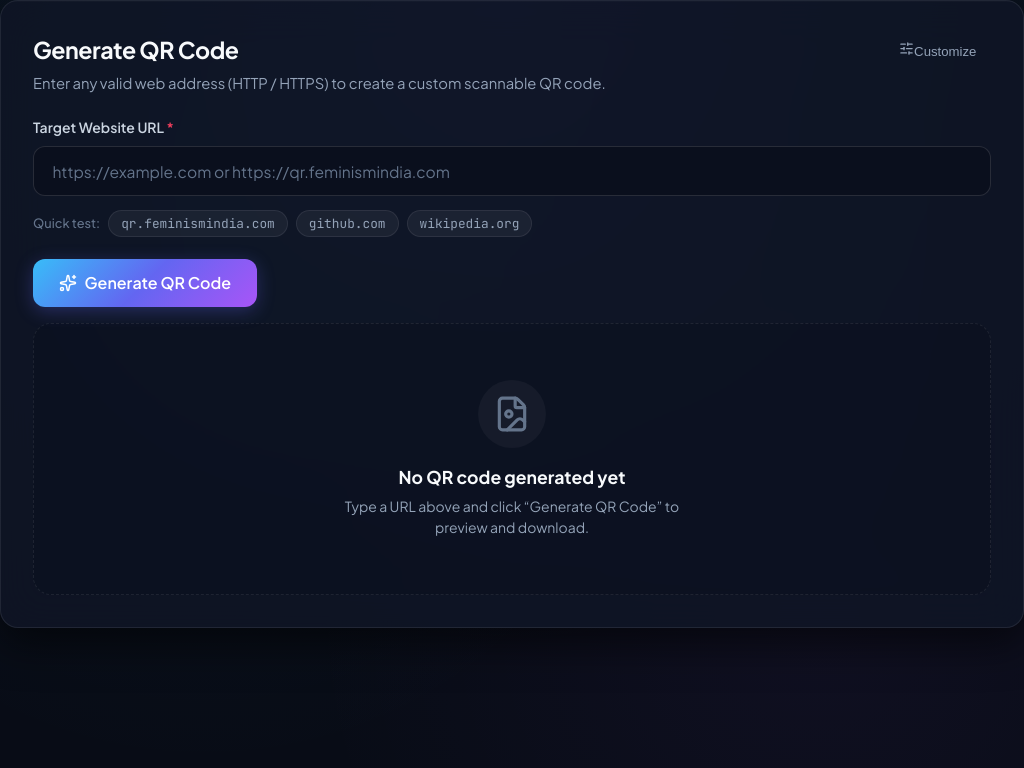
QRGenerator Component › shows error when submitting URL without http/https
The image size is (1024, 768).
Type "example.com" into the field labelled "Target Website URL *". click: (512, 171)
box: left=33, top=146, right=991, bottom=196
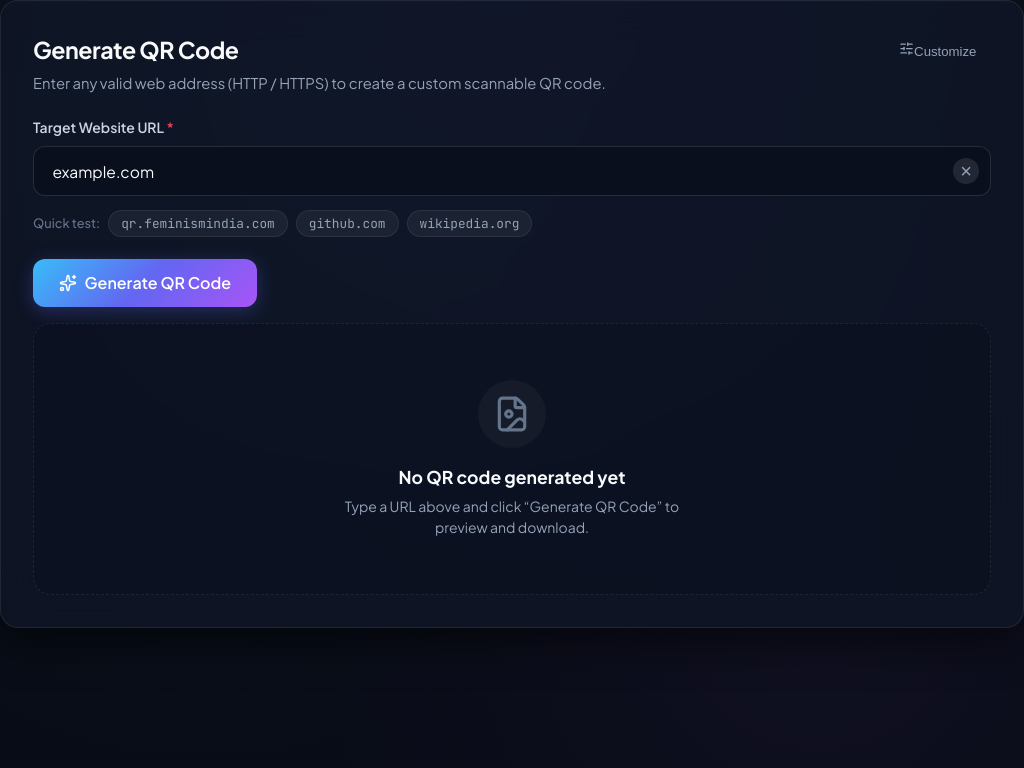
Click the button "Generate QR Code". click: click(145, 283)
box: left=33, top=259, right=257, bottom=308
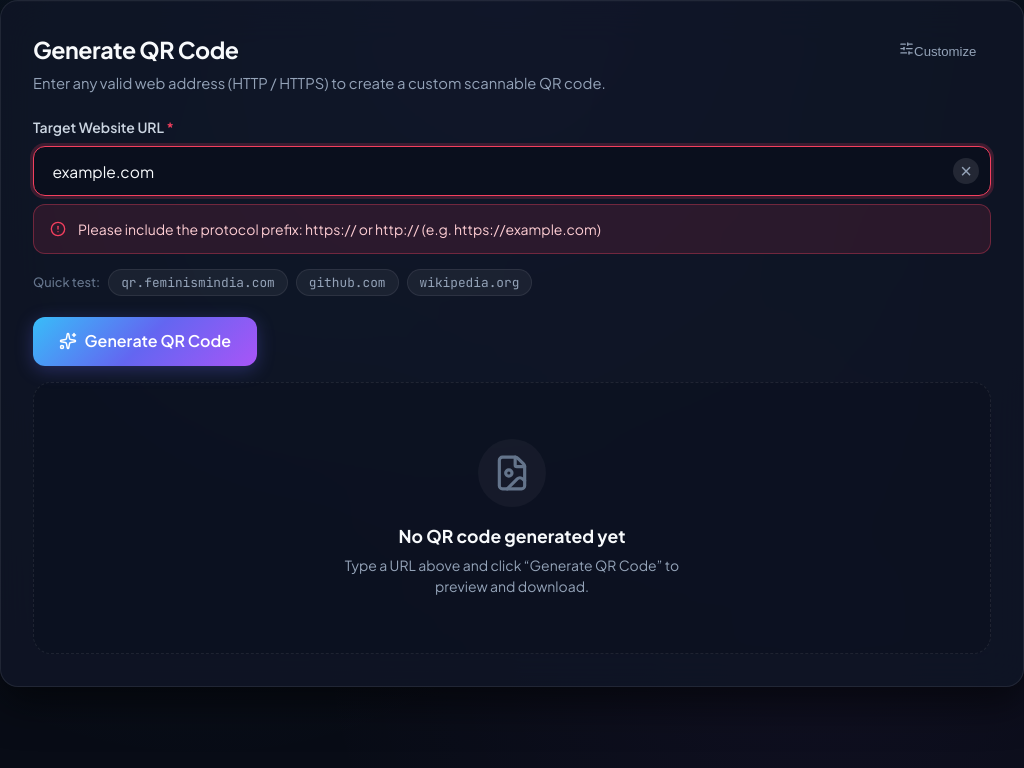
Expected: the message shows "https:// or http://", left=78, top=220, right=601, bottom=238
